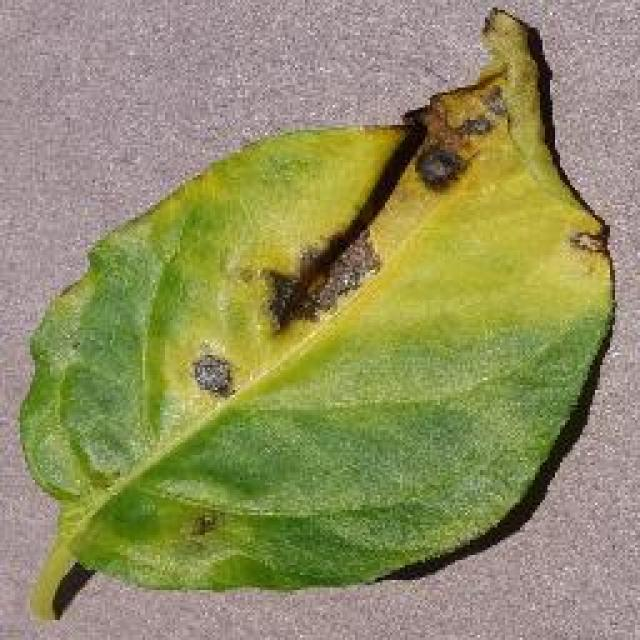Chilli_Bacterial_Spot: (12, 5, 620, 620), (183, 222, 385, 402), (258, 225, 382, 337), (405, 78, 510, 192), (260, 265, 320, 337), (412, 142, 468, 190), (187, 350, 235, 398), (565, 225, 610, 257), (455, 110, 495, 140), (188, 510, 220, 540)
